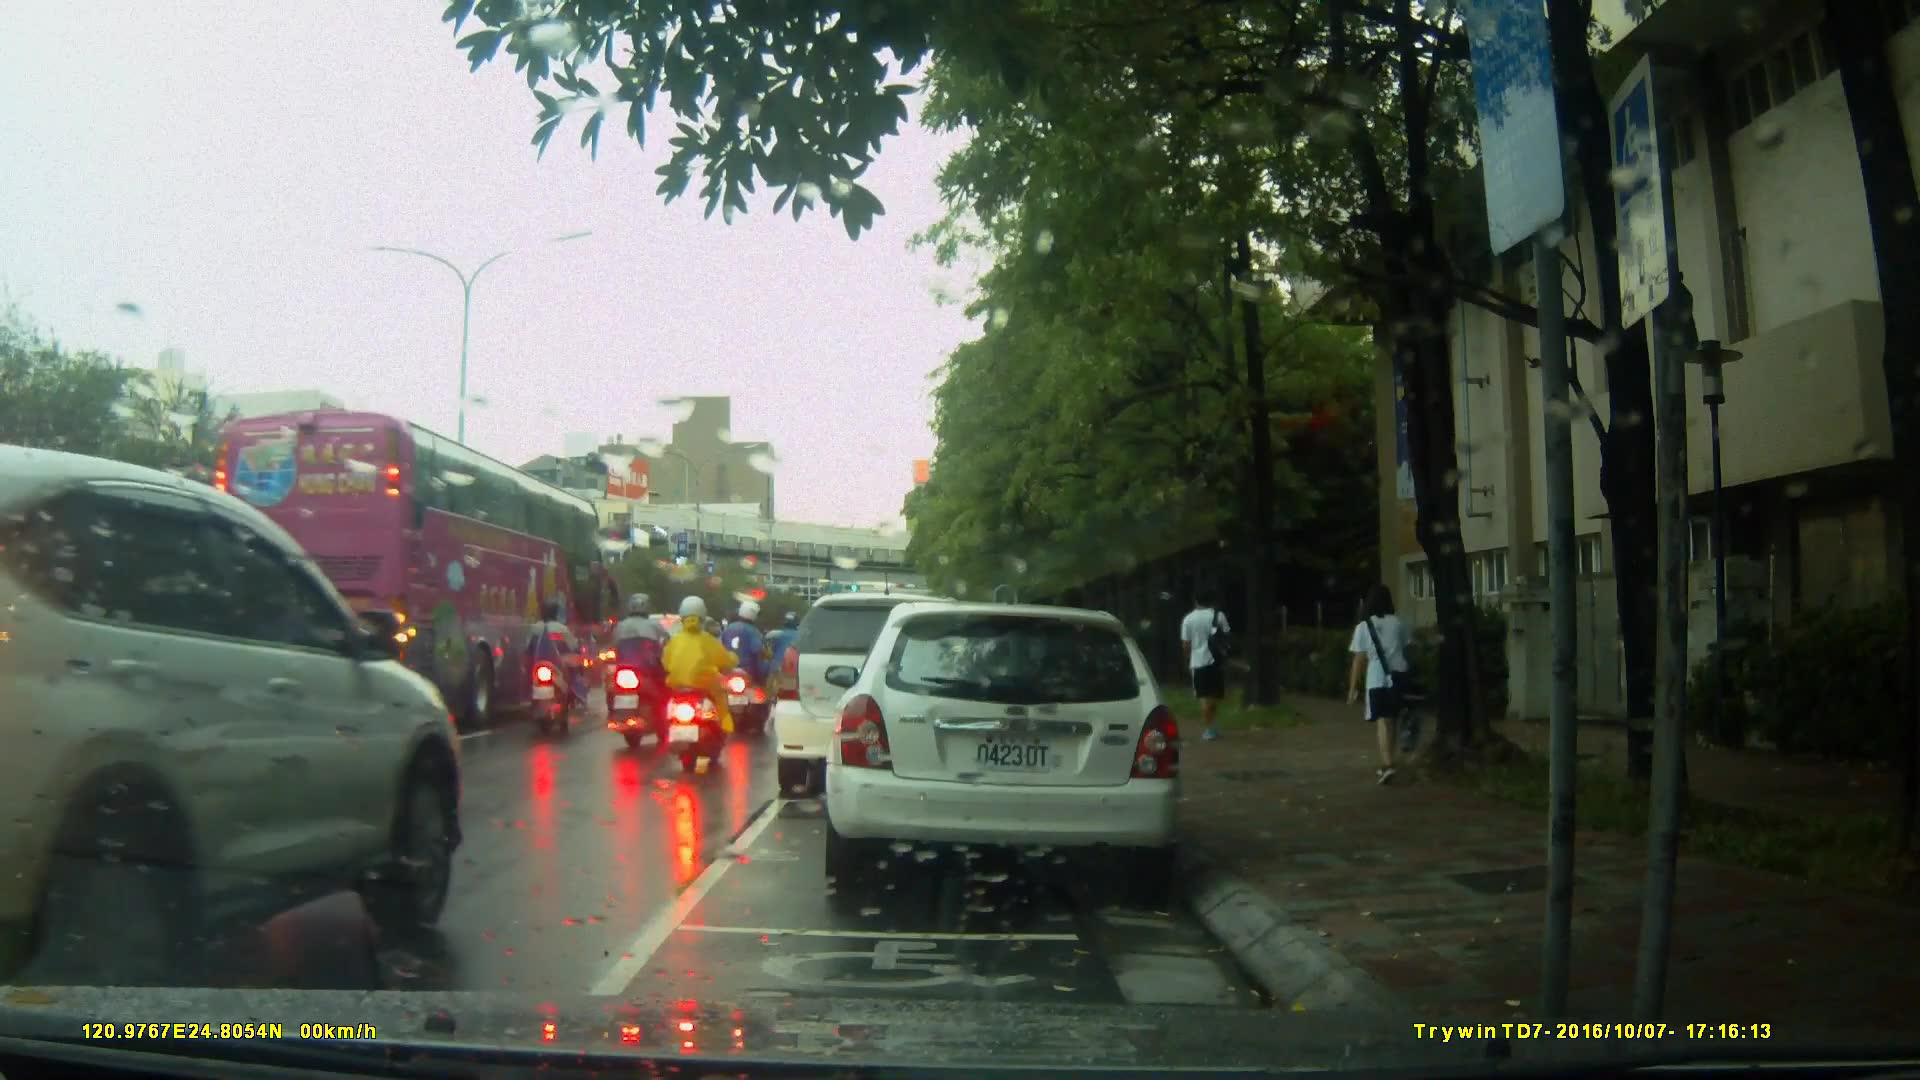pedestrian: (1347, 578, 1432, 793), (1169, 584, 1227, 743)
rider: (667, 598, 735, 772), (612, 589, 670, 750), (716, 604, 777, 738), (530, 597, 582, 732), (770, 611, 818, 722)
vehicle: (1, 438, 467, 989), (204, 406, 611, 723), (835, 594, 1194, 898), (776, 590, 1026, 784), (603, 613, 731, 716)
